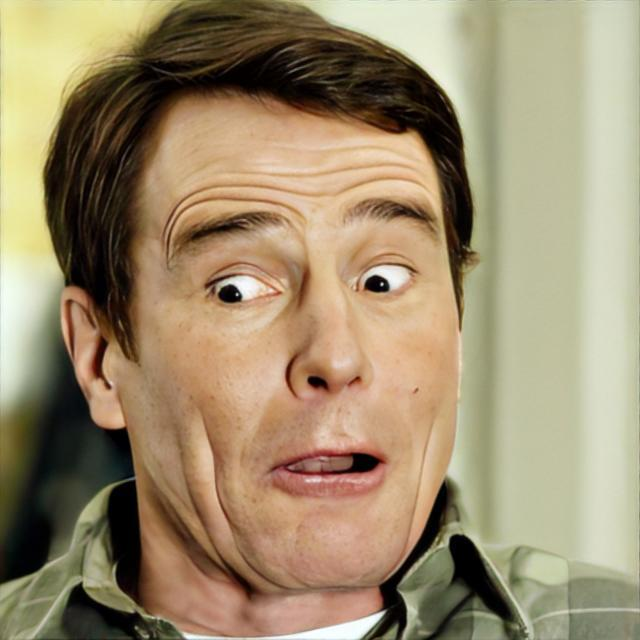fear: (124, 94, 459, 586)
